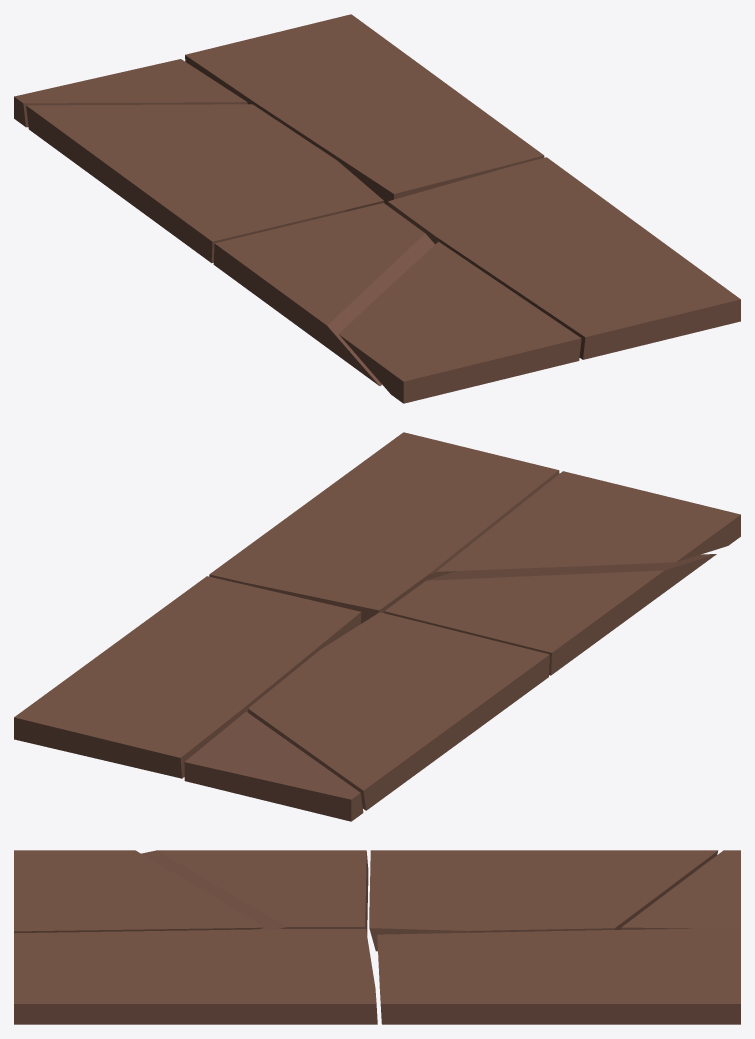
The model's file is tea table ORIGIN.fbx.
The picture shows the model from 3 angles, top to bottom: view 1: azimuth 30°, elevation 25°; view 2: azimuth 150°, elevation 25°; view 3: azimuth 270°, elevation 25°; orthographic projection. The views are drawn at different scales.
Parts seen in each view (by area): view 1: group1453542057_cell.018, group1453542057_cell.012, group1453542057_cell.031, group1453542057_cell.037, group1453542057_cell.009, group1453542057_cell.021, group1453542057_cell.035, group1453542057_cell.040, group1453542057_cell.016, group1453542057_cell.002, group1453542057_cell.028, group1453542057_cell.015 (+10 smaller); view 2: group1453542057_cell.018, group1453542057_cell.012, group1453542057_cell.002, group1453542057_cell.009, group1453542057_cell.021, group1453542057_cell.031, group1453542057_cell.040, group1453542057_cell.016, group1453542057_cell.037, group1453542057_cell.035, group1453542057_cell.028, group1453542057_cell.015 (+10 smaller); view 3: group1453542057_cell.018, group1453542057_cell.021, group1453542057_cell.037, group1453542057_cell.016, group1453542057_cell.009, group1453542057_cell.002, group1453542057_cell.012, group1453542057_cell.031, group1453542057_cell.040, group1453542057_cell.035, group1453542057_cell.028, group1453542057_cell.015 (+9 smaller).
Boxes of the visible parts, bbox=[...] form: group1453542057_cell.018: bbox=[255, 101, 543, 193]; group1453542057_cell.012: bbox=[95, 146, 294, 262]; group1453542057_cell.031: bbox=[339, 271, 501, 403]; group1453542057_cell.037: bbox=[554, 225, 740, 359]; group1453542057_cell.009: bbox=[26, 104, 322, 177]; group1453542057_cell.021: bbox=[454, 157, 638, 248]; group1453542057_cell.035: bbox=[407, 241, 581, 379]; group1453542057_cell.040: bbox=[454, 225, 658, 315]; group1453542057_cell.016: bbox=[255, 44, 469, 125]; group1453542057_cell.002: bbox=[185, 14, 391, 102]; group1453542057_cell.028: bbox=[215, 231, 375, 325]; group1453542057_cell.015: bbox=[228, 146, 383, 221]; group1453542057_cell.018: bbox=[133, 576, 360, 708]; group1453542057_cell.012: bbox=[346, 634, 549, 761]; group1453542057_cell.002: bbox=[14, 687, 242, 778]; group1453542057_cell.009: bbox=[248, 659, 433, 810]; group1453542057_cell.021: bbox=[209, 507, 442, 593]; group1453542057_cell.031: bbox=[512, 490, 740, 568]; group1453542057_cell.040: bbox=[302, 471, 530, 562]; group1453542057_cell.016: bbox=[55, 630, 242, 708]; group1453542057_cell.037: bbox=[302, 432, 558, 506]; group1453542057_cell.035: bbox=[437, 471, 642, 571]; group1453542057_cell.028: bbox=[500, 570, 663, 652]; group1453542057_cell.015: bbox=[308, 612, 466, 696]; group1453542057_cell.018: bbox=[377, 930, 615, 1024]; group1453542057_cell.021: bbox=[203, 929, 377, 1024]; group1453542057_cell.037: bbox=[14, 932, 203, 1024]; group1453542057_cell.016: bbox=[503, 930, 664, 1024]; group1453542057_cell.009: bbox=[494, 850, 717, 930]; group1453542057_cell.002: bbox=[617, 928, 740, 1024]; group1453542057_cell.012: bbox=[370, 850, 587, 900]; group1453542057_cell.031: bbox=[14, 850, 223, 902]; group1453542057_cell.040: bbox=[69, 929, 244, 1003]; group1453542057_cell.035: bbox=[14, 895, 264, 931]; group1453542057_cell.028: bbox=[157, 850, 366, 888]; group1453542057_cell.015: bbox=[369, 888, 545, 930].
Size of the model in its own units: 16 by 1 by 32.
